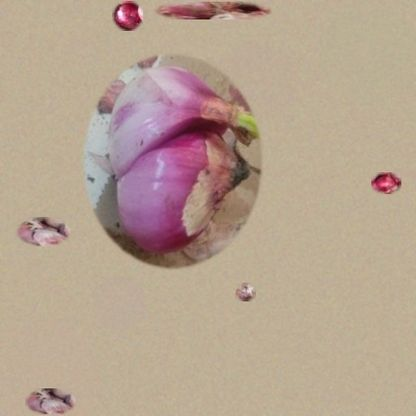damaged: (78, 47, 267, 275)
healthy: (112, 1, 143, 31), (371, 172, 401, 194)
rotten: (152, 2, 275, 20), (236, 283, 256, 301)
sprouted: (15, 217, 71, 246), (25, 388, 76, 414)
